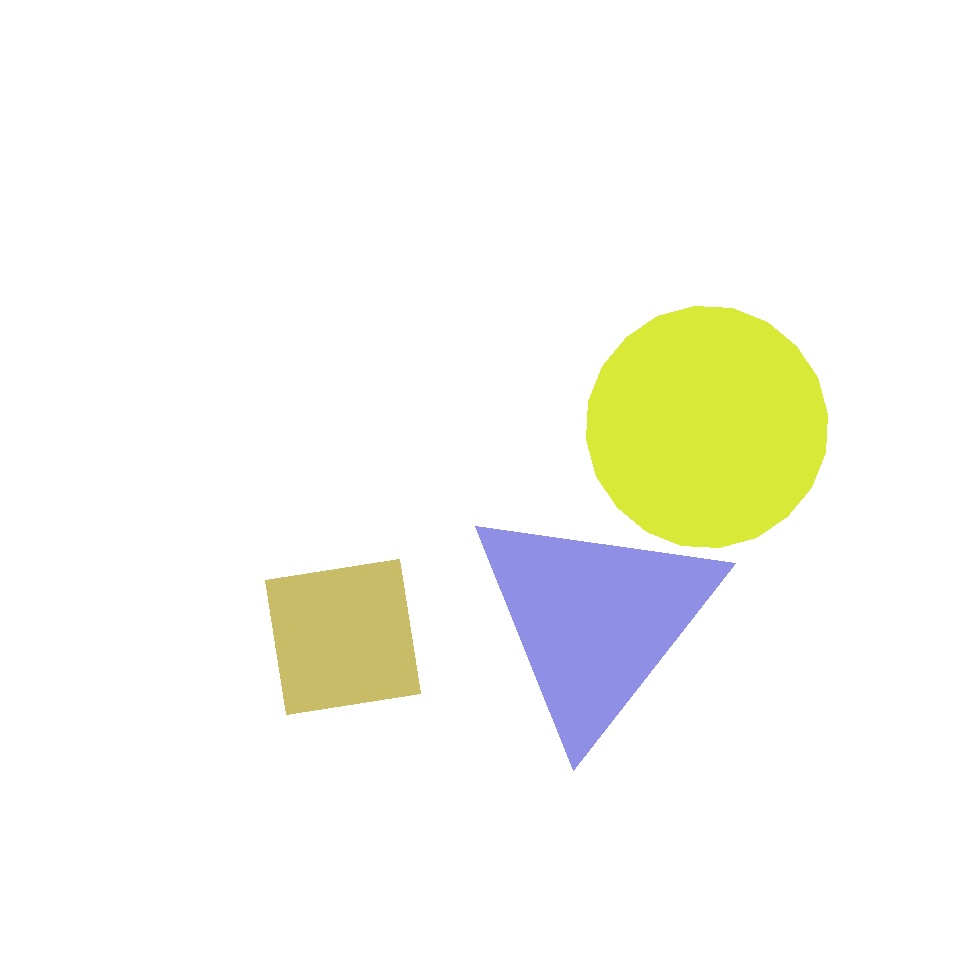circle: (465, 498, 725, 742), (267, 447, 463, 661)
square: (266, 560, 420, 714)
triangle: (318, 418, 600, 700), (586, 306, 828, 548)
